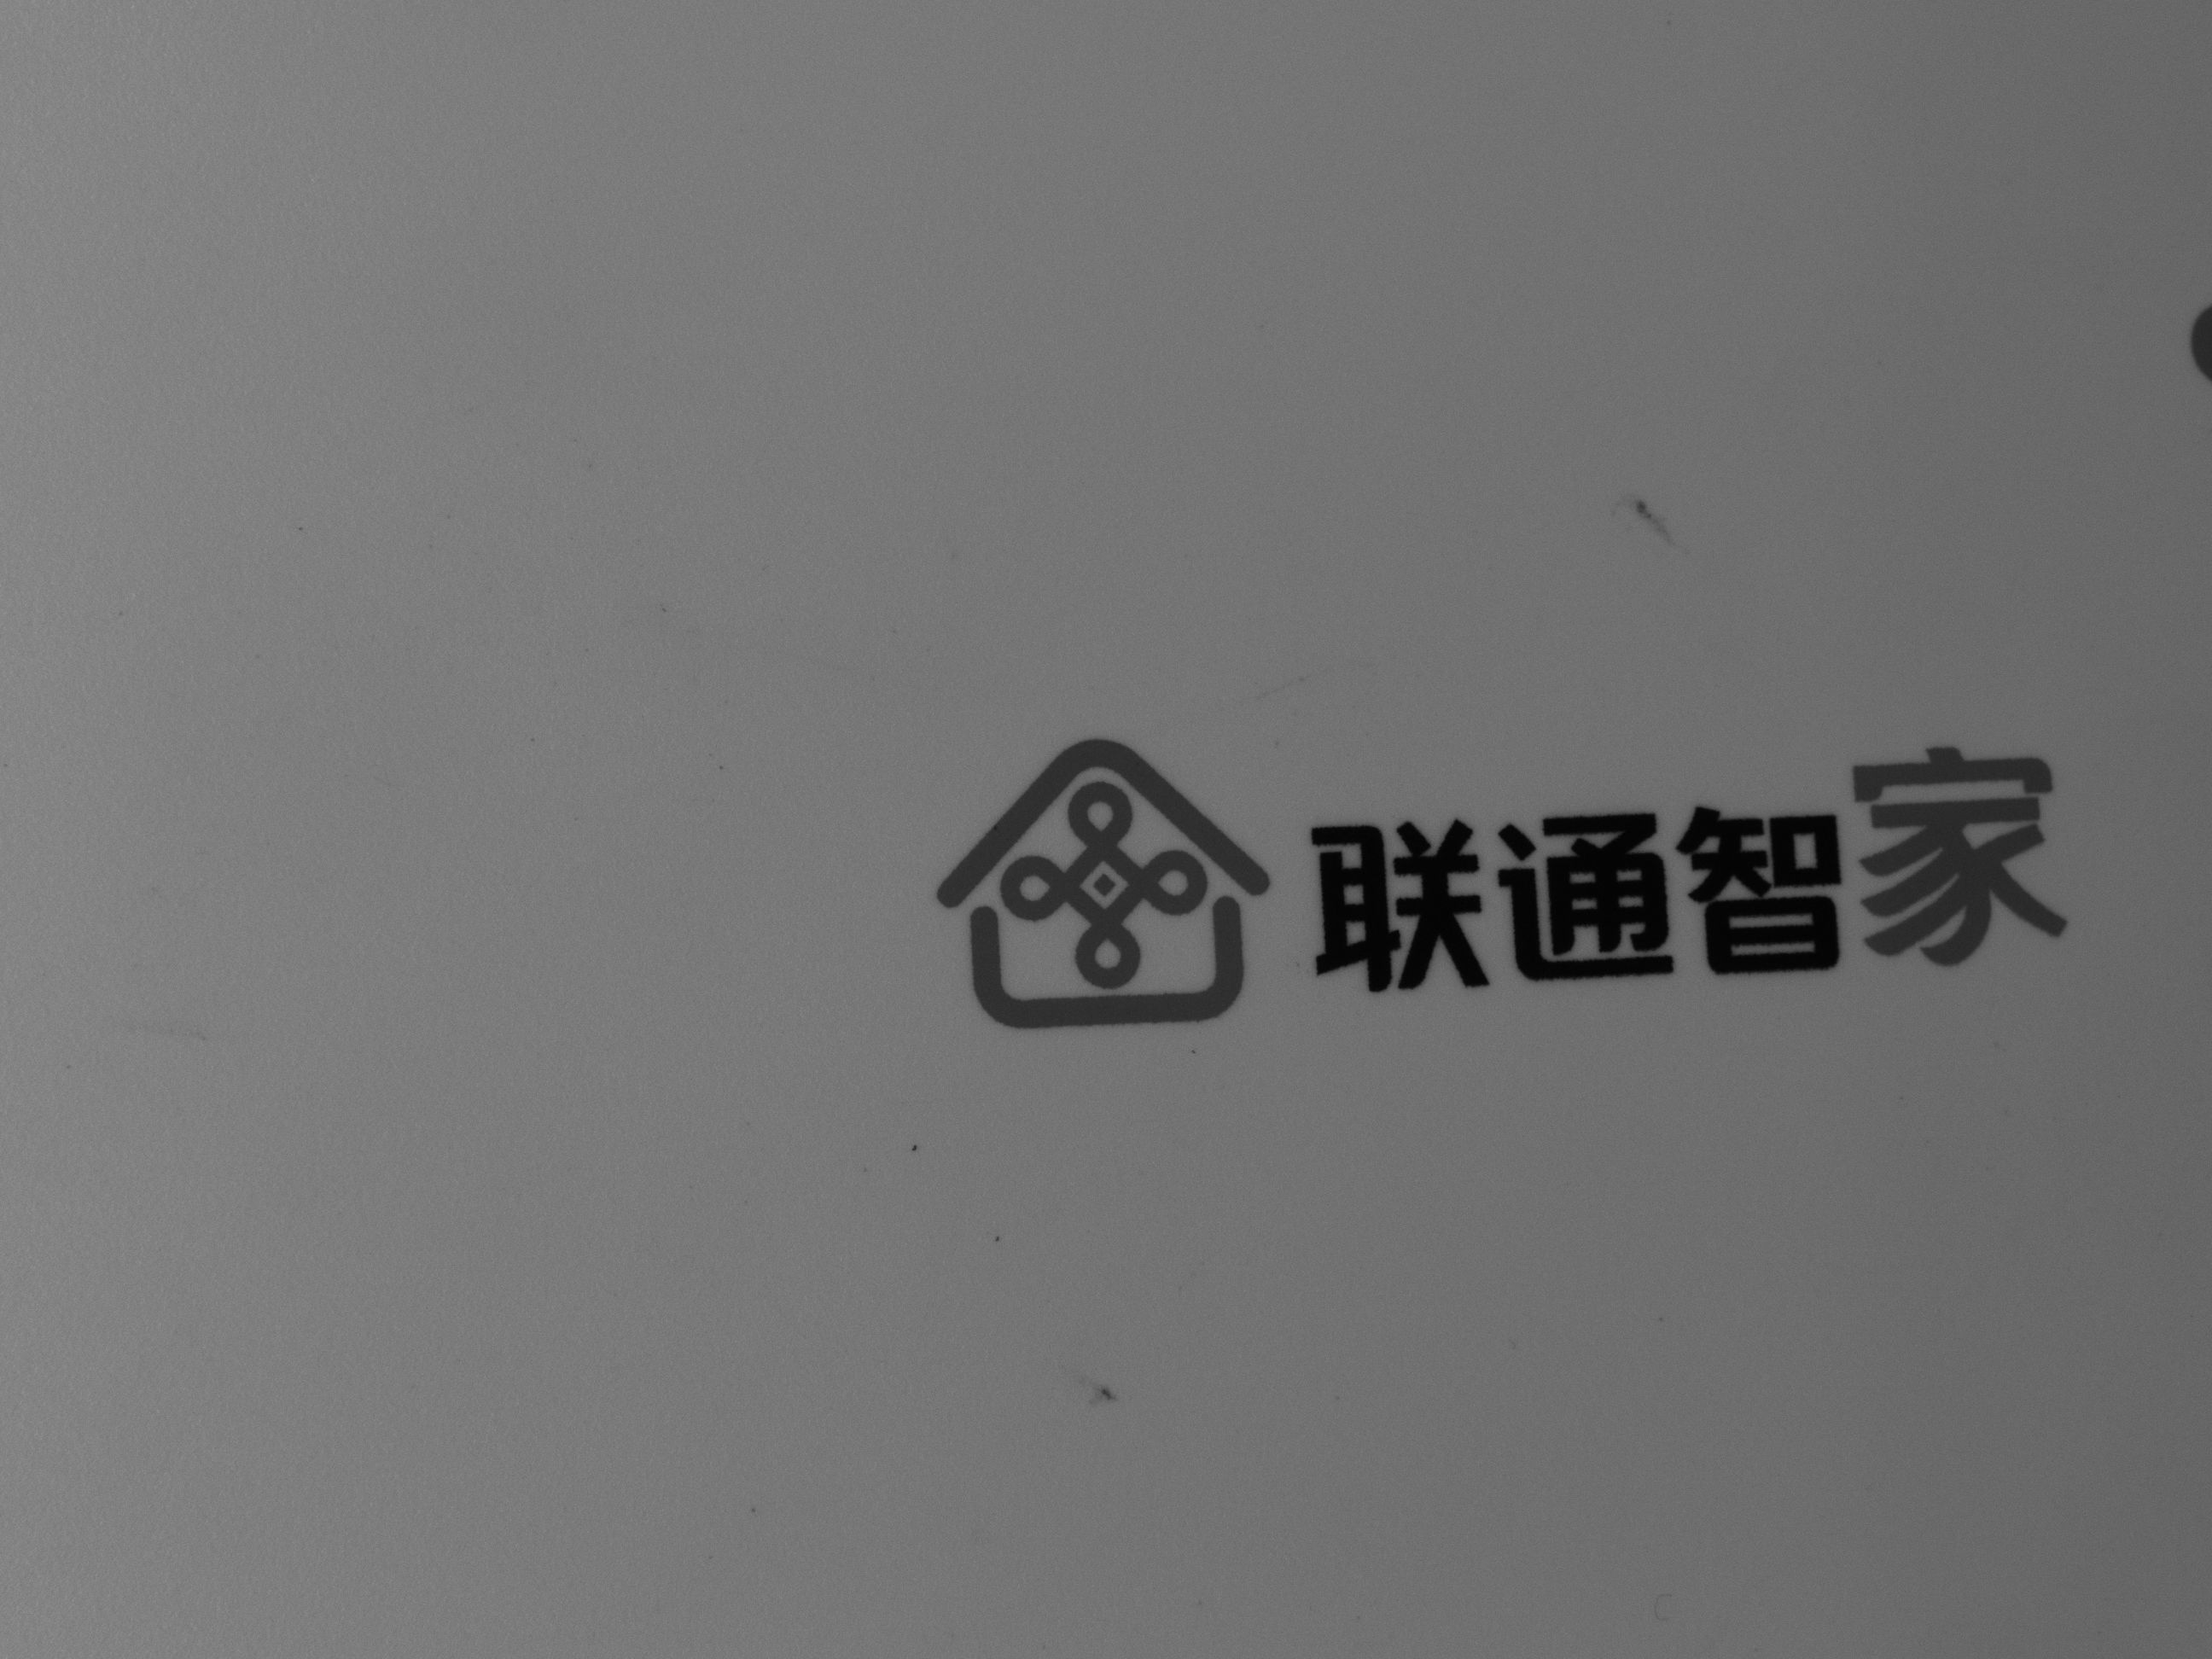BY_F6610Unicome: (894, 683, 2080, 1007)
